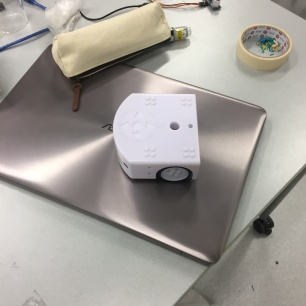thymio: (108, 85, 206, 188)
